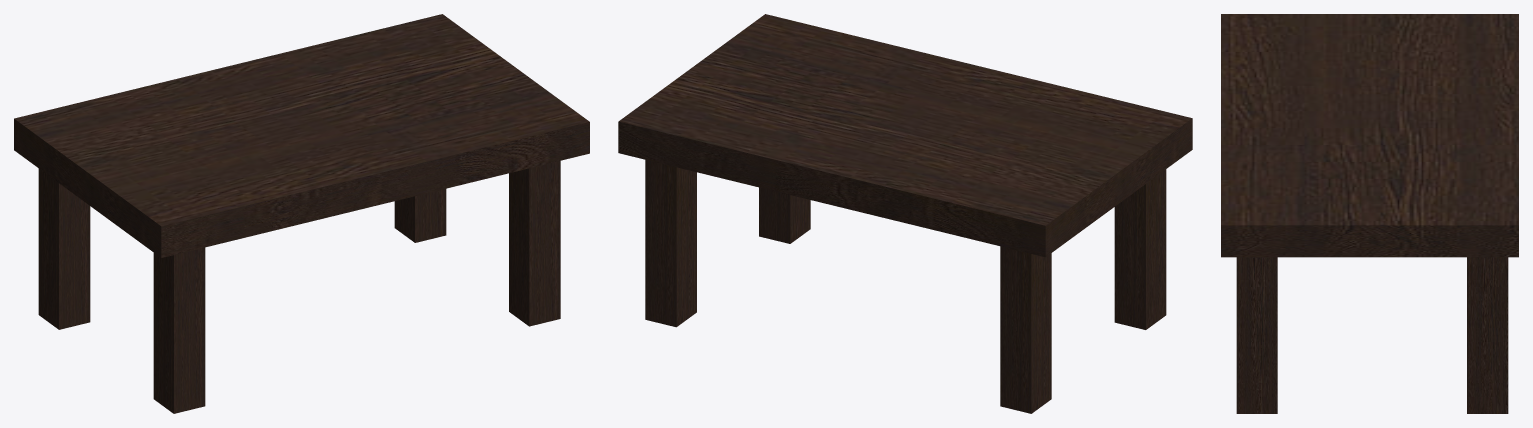
File: desk.fbx
3 renders of one model, left to right at view 1: azimuth 30°, elevation 25°; view 2: azimuth 150°, elevation 25°; view 3: azimuth 270°, elevation 25°, orthographic.
Visible parts, largest first — view 1: Desk; view 2: Desk; view 3: Desk.
Part boxes in pixels (<box>): Desk: <box>14,14,589,413</box>; Desk: <box>618,14,1192,413</box>; Desk: <box>1221,14,1518,413</box>.
Bounding box in the file's own units: 528 × 232 × 314.
